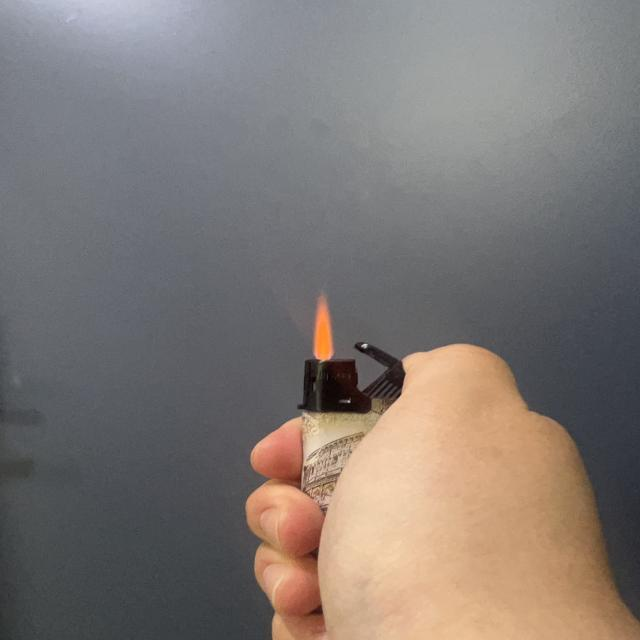fire: (308, 288, 338, 360)
